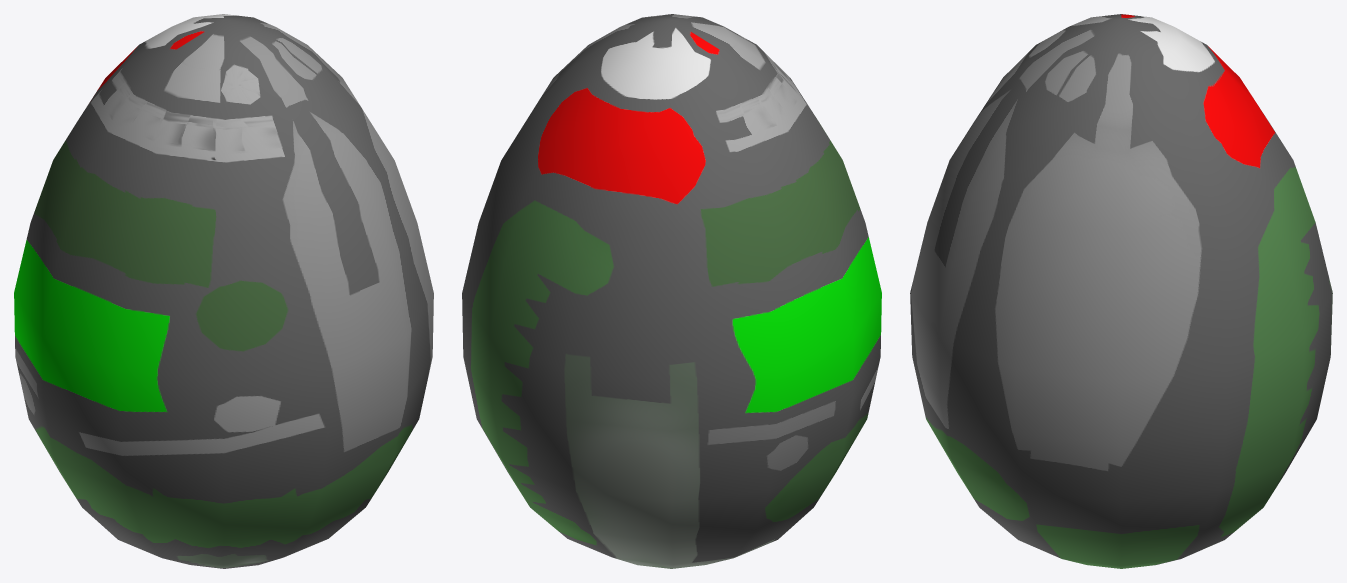
The model's file is Egg.fbx.
3 views of the same model, side by side, from view 1: azimuth 30°, elevation 25°; view 2: azimuth 150°, elevation 25°; view 3: azimuth 270°, elevation 25° (orthographic).
Visible parts, largest first — view 1: Egg12; view 2: Egg12; view 3: Egg12.
Part boxes in pixels (box(x1,y1,x2,y2)): Egg12: box(14, 14, 433, 568); Egg12: box(462, 14, 881, 568); Egg12: box(910, 14, 1332, 568).
Size of the model in its own units: 22 by 30.63 by 22.17.
